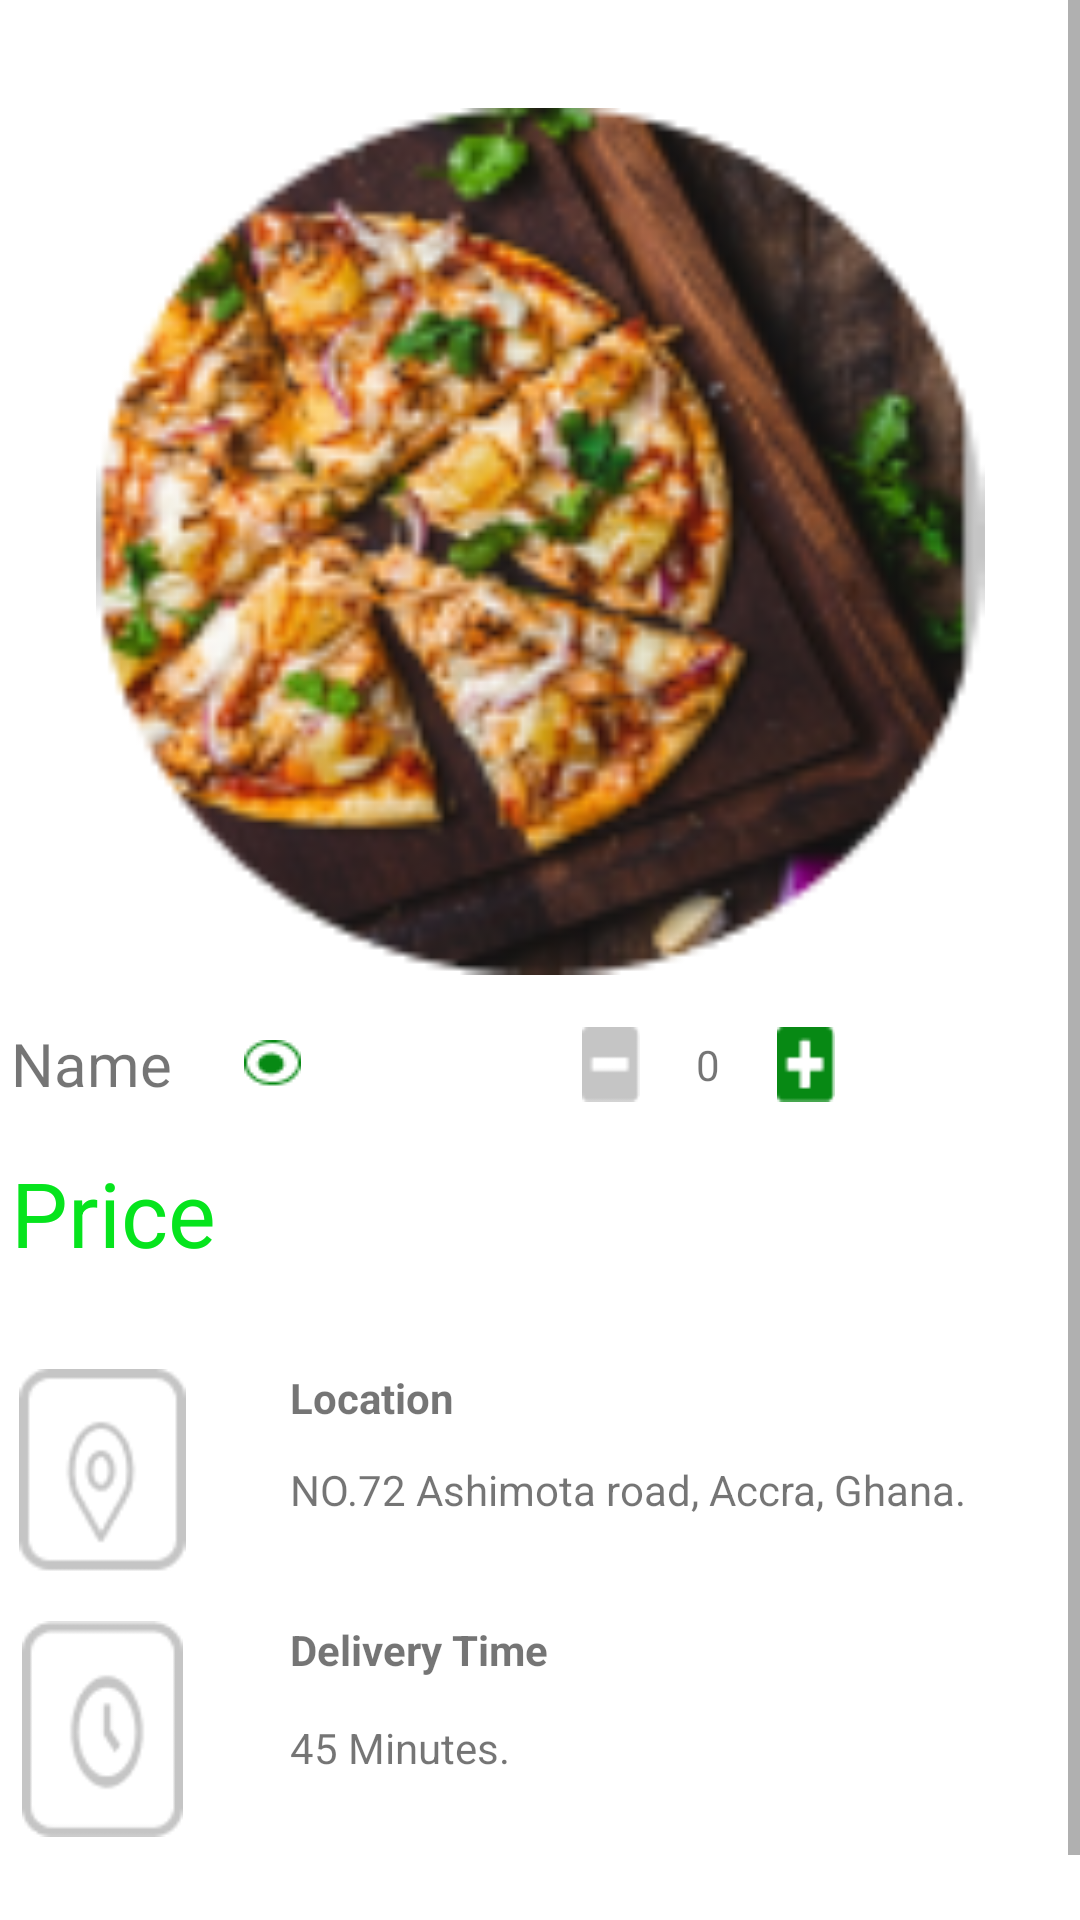

Named icons in this screenshot (1080px x 1920px) and their centers, (x,y):
locaction: (102,1469)
minus: (610,1064)
plus: (806,1064)
